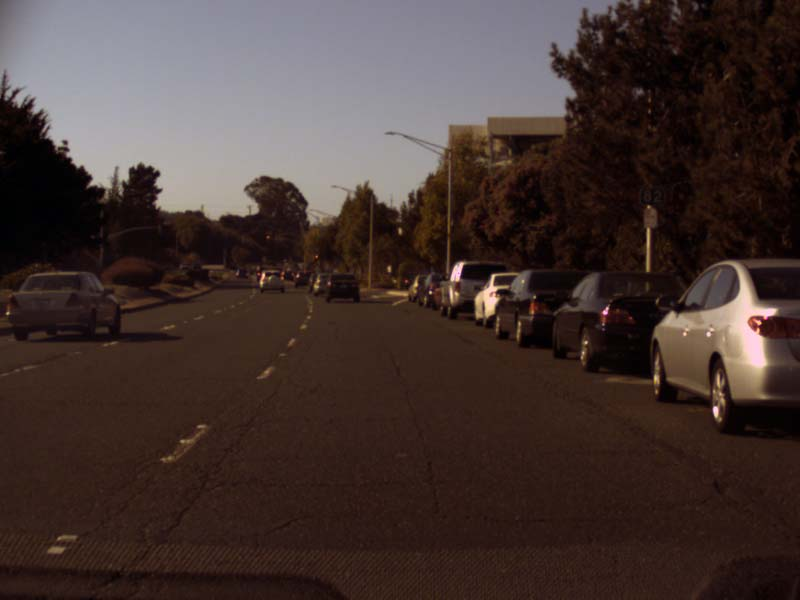Red: (266, 235, 270, 243)
Yellow: (314, 253, 318, 259)
